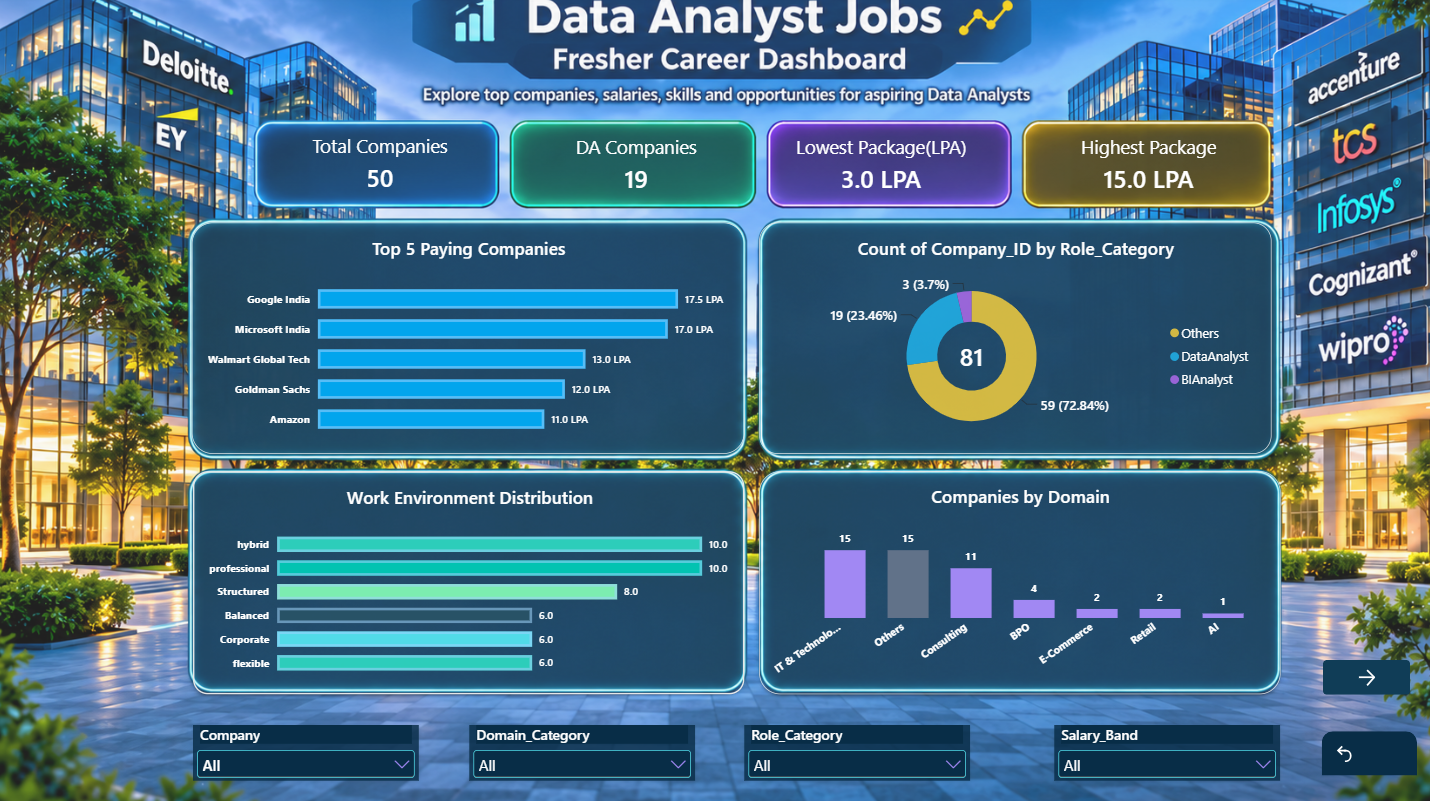

Layout of this report page (visuals, bound fields, positions):
{"tool":"powerbi","page":{"name":"Overview","canvas":[1648,928],"ordinal":1},"visuals":[{"type":"cardVisual","fields":{"Data":["Measuretable.Total Companies"]},"box":[298.6,139.6,280.9,109.5],"z":0},{"type":"cardVisual","fields":{"Data":["Measuretable.DA Companies"]},"box":[592.4,139.9,280.9,109.5],"z":1000},{"type":"cardVisual","fields":{"Data":["Measuretable.Lowest Package"]},"box":[873.9,139.9,280.9,109.5],"z":2000},{"type":"cardVisual","fields":{"Data":["Measuretable.Highest Package"]},"box":[1180.2,139.9,280.9,109.5],"z":3000},{"type":"clusteredBarChart","title":"Top 5 Paying Companies","fields":{"Category":["Companies.Company"],"Y":["Measuretable.Average Package"]},"box":[222.4,261.2,634.4,265.9],"z":4000},{"type":"donutChart","fields":{"Category":["Company_Roles.Role_Category"],"Y":["CountNonNull(Company_Roles.Company_ID)"]},"box":[873.9,261.2,587.8,265.9],"z":5000},{"type":"clusteredBarChart","title":"Work Environment Distribution","fields":{"Category":["Company_Enviroment.Work_ Environment"],"Y":["Measuretable.Environment %"]},"box":[223.4,546.8,632.8,256.2],"z":6000},{"type":"columnChart","title":"Companies by Domain","fields":{"Category":["Companies.Domain_Category"],"Y":["Measuretable.Total Companies"]},"box":[873.4,546.8,598.4,256.2],"z":6001},{"type":"slicer","fields":{"Values":["Companies.Company"]},"box":[223.4,837.4,259.4,64.1],"z":6002},{"type":"slicer","fields":{"Values":["Companies.Domain_Category"]},"box":[540.6,837.4,259.4,64.1],"z":6004},{"type":"slicer","fields":{"Values":["Company_Roles.Role_Category"]},"box":[856.2,837.4,259.4,64.1],"z":6005},{"type":"slicer","fields":{"Values":["Companies.Salary_Band"]},"box":[1212.4,837.4,259.4,64.1],"z":6006},{"type":"textbox","box":[149.5,180.5,300,150],"z":6008},{"type":"actionButton","box":[1519.8,844.7,109.4,50.9],"z":6009},{"type":"actionButton","box":[1520.4,762.6,100,40],"z":6011}]}

Visuals, with their boxes in screenshot pixels (x1, y1, x2, y2), scaled from the page's 1648x928 canvas onto the 1430x801 screenshot:
cardVisual - Measuretable.Total Companies: bbox=[259, 120, 503, 215]
cardVisual - Measuretable.DA Companies: bbox=[514, 121, 758, 215]
cardVisual - Measuretable.Lowest Package: bbox=[758, 121, 1002, 215]
cardVisual - Measuretable.Highest Package: bbox=[1024, 121, 1268, 215]
"Top 5 Paying Companies" clusteredBarChart: bbox=[193, 225, 743, 455]
donutChart - Company_Roles.Role_Category x CountNonNull(Company_Roles.Company_ID): bbox=[758, 225, 1268, 455]
"Work Environment Distribution" clusteredBarChart: bbox=[194, 472, 743, 693]
"Companies by Domain" columnChart: bbox=[758, 472, 1277, 693]
slicer - Companies.Company: bbox=[194, 723, 419, 778]
slicer - Companies.Domain_Category: bbox=[469, 723, 694, 778]
slicer - Company_Roles.Role_Category: bbox=[743, 723, 968, 778]
slicer - Companies.Salary_Band: bbox=[1052, 723, 1277, 778]
textbox: bbox=[130, 156, 390, 285]
actionButton: bbox=[1319, 729, 1414, 773]
actionButton: bbox=[1319, 658, 1406, 693]
